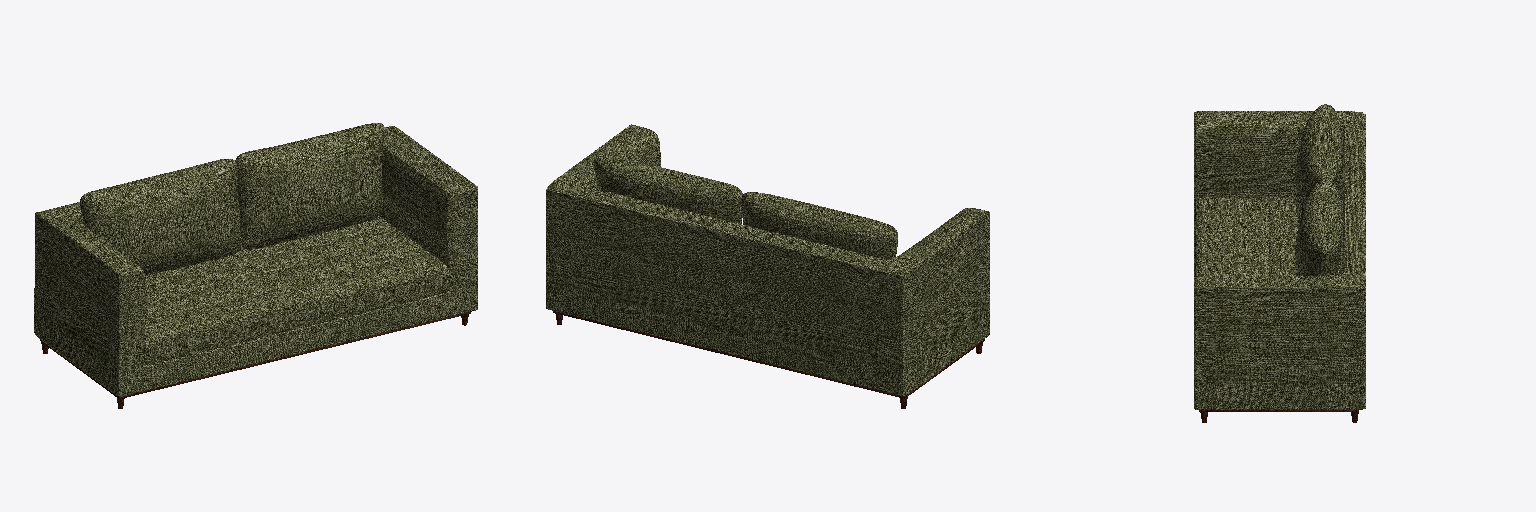
3 views of the same model, side by side, from view 1: azimuth 30°, elevation 25°; view 2: azimuth 150°, elevation 25°; view 3: azimuth 270°, elevation 25° (orthographic).
Parts seen in each view (by area): view 1: Cube_Cube.004, Cube.002_Cube.003, Cube.004_Cube.010, Cube.003_Cube.008, Cube.005_Cube.013; view 2: Cube_Cube.004, Cube.003_Cube.008, Cube.004_Cube.010, Cube.005_Cube.013; view 3: Cube_Cube.004, Cube.002_Cube.003, Cube.004_Cube.010, Cube.003_Cube.008.
Boxes of the visible parts, x1=… form: Cube_Cube.004: x1=34, y1=126, x2=477, y2=396; Cube.002_Cube.003: x1=144, y1=216, x2=449, y2=364; Cube.004_Cube.010: x1=235, y1=123, x2=384, y2=249; Cube.003_Cube.008: x1=80, y1=159, x2=241, y2=275; Cube.005_Cube.013: x1=40, y1=312, x2=470, y2=398; Cube_Cube.004: x1=546, y1=124, x2=989, y2=395; Cube.003_Cube.008: x1=741, y1=192, x2=897, y2=259; Cube.004_Cube.010: x1=594, y1=156, x2=742, y2=223; Cube.005_Cube.013: x1=553, y1=311, x2=984, y2=398; Cube_Cube.004: x1=1194, y1=111, x2=1365, y2=409; Cube.002_Cube.003: x1=1194, y1=198, x2=1340, y2=277; Cube.004_Cube.010: x1=1295, y1=178, x2=1342, y2=275; Cube.003_Cube.008: x1=1295, y1=104, x2=1342, y2=221.
Size of the model in its own units: 71 by 31.14 by 29.4.
Materials: 2 (2 with a texture image).